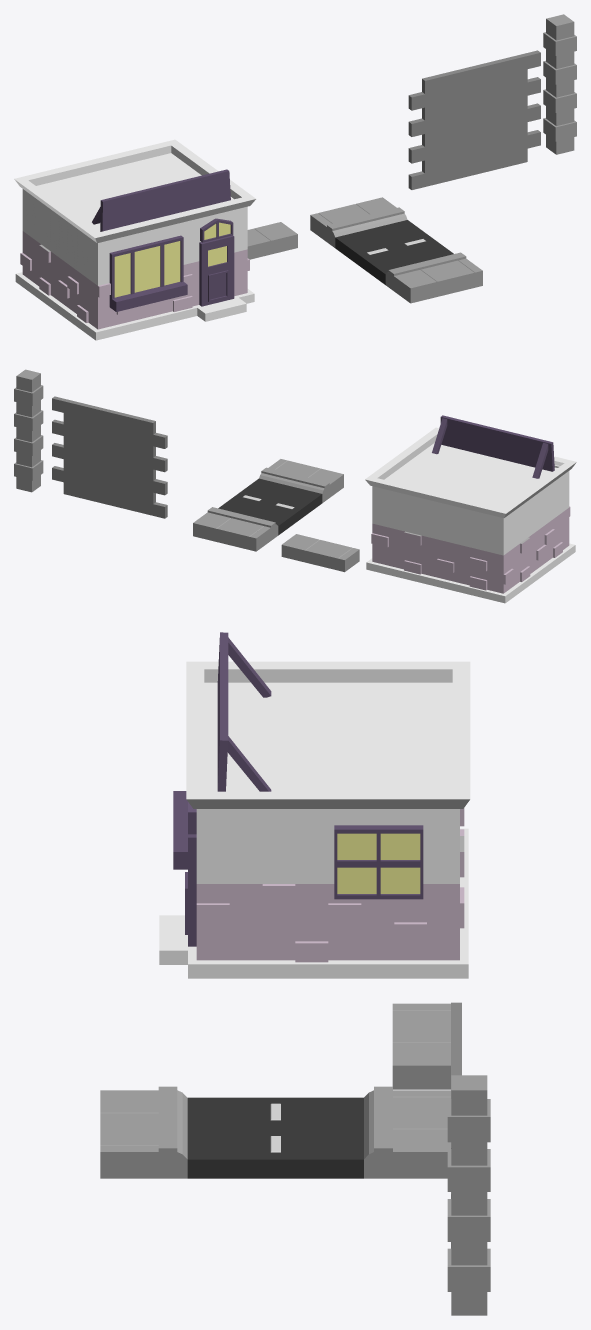
File: ModKitStreet.fbx
The picture shows the model from 3 angles, top to bottom: view 1: azimuth 30°, elevation 25°; view 2: azimuth 150°, elevation 25°; view 3: azimuth 270°, elevation 25°; orthographic projection. The views are drawn at different scales.
Parts seen in each view (by area): view 1: MKBuilding, MKBrickWall, MKRoad, MKBarWindow, MKRoofSign, MKBrickPillar, MKBarDoor, MKSidewalk, MKSmallWindow; view 2: MKBuilding, MKBrickWall, MKRoad, MKRoofSign, MKBrickPillar, MKSidewalk; view 3: MKBuilding, MKRoad, MKBrickPillar, MKBarWindowSmall, MKSidewalk, MKRoofSign, MKBarDoor, MKBarWindow, MKBrickWall.
Boxes of the visible parts, box(x1,y1,x2,y2) form: MKBuilding: box(14, 139, 255, 340); MKBrickWall: box(408, 50, 540, 189); MKRoad: box(310, 197, 482, 303); MKBarWindow: box(109, 235, 187, 311); MKRoofSign: box(92, 169, 230, 231); MKBrickPillar: box(543, 14, 576, 154); MKBarDoor: box(199, 235, 234, 306); MKSidewalk: box(247, 222, 297, 259); MKSmallWindow: box(200, 218, 233, 242); MKBuilding: box(365, 427, 576, 603); MKBrickWall: box(52, 396, 167, 518); MKRoad: box(193, 459, 343, 551); MKRoofSign: box(432, 415, 554, 478); MKBrickPillar: box(14, 369, 43, 492); MKSidewalk: box(281, 534, 359, 572); MKBuilding: box(159, 661, 470, 978); MKRoad: box(100, 1086, 450, 1178); MKBrickPillar: box(447, 1075, 490, 1315); MKBarWindowSmall: box(334, 825, 423, 899); MKSidewalk: box(392, 1003, 450, 1089); MKRoofSign: box(217, 632, 271, 791); MKBarDoor: box(185, 834, 196, 946); MKBarWindow: box(173, 791, 187, 869); MKBrickWall: box(451, 1002, 461, 1248).
Bounding box in the file's own units: 38.44 × 9.5 × 13.35.
